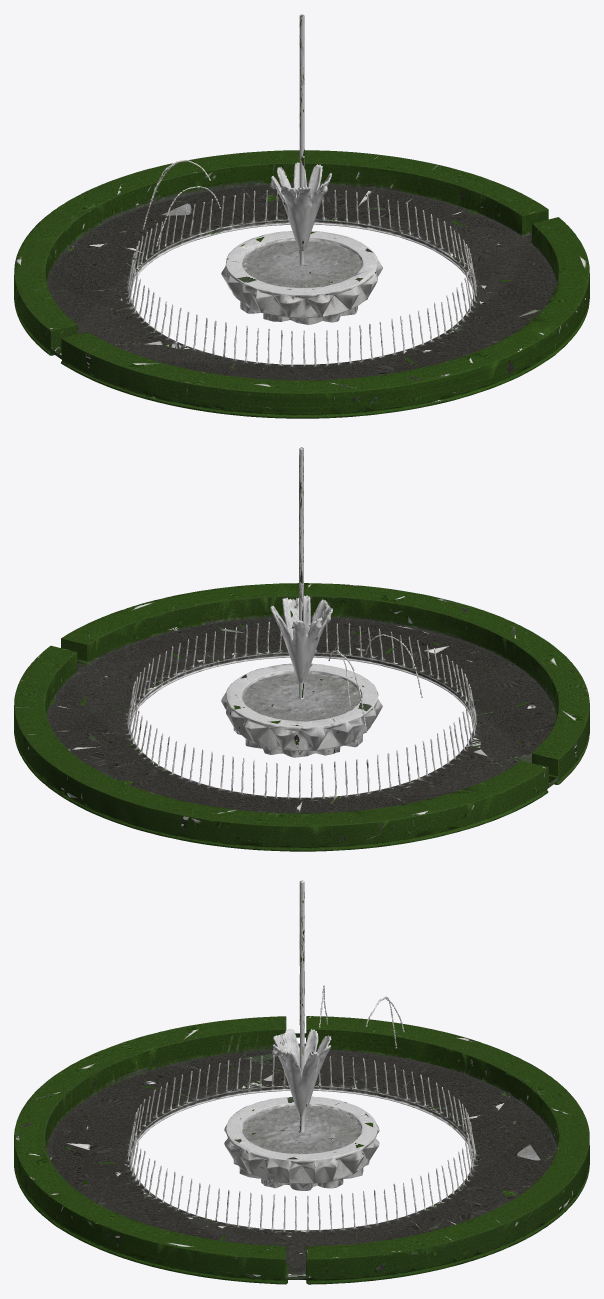
File: đài phun nước.glb
3 views of the same model, one above another, from view 1: azimuth 30°, elevation 25°; view 2: azimuth 150°, elevation 25°; view 3: azimuth 270°, elevation 25° (orthographic).
Bounding box in the file's own units: 1.9 × 1.03 × 1.9.
1 material, 1 textured.
